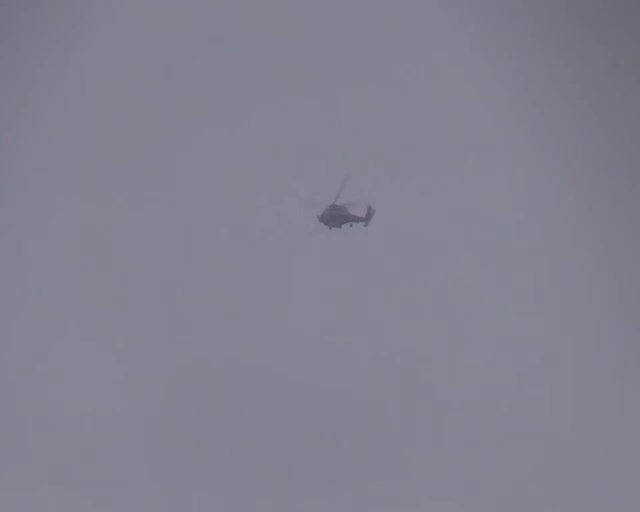HELICOPTER: (315, 170, 375, 230)
